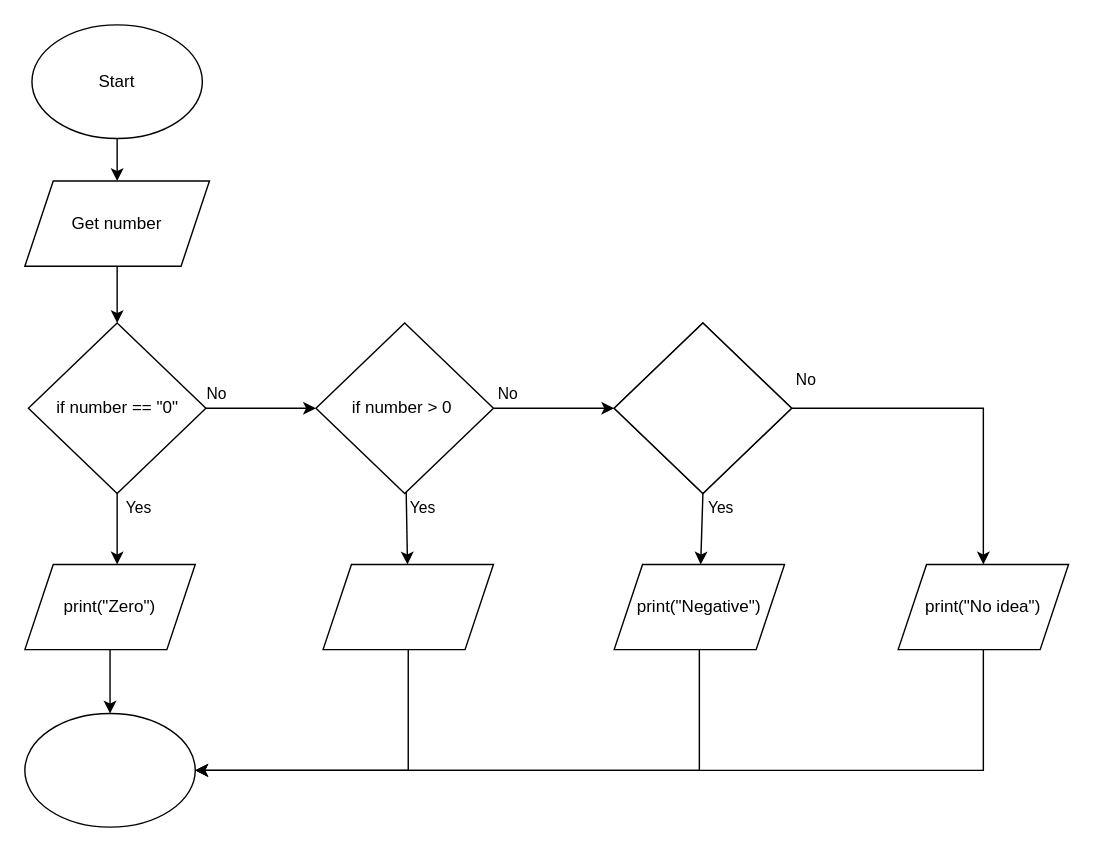
This 1093x852 diagram has some shape labels left out. Here are the shapes that lost their labels. From the top down, the centre of each, then its label:
the point at 702,407: if number < 0
the point at 407,606: print("Positive")
the point at 109,769: Stop
